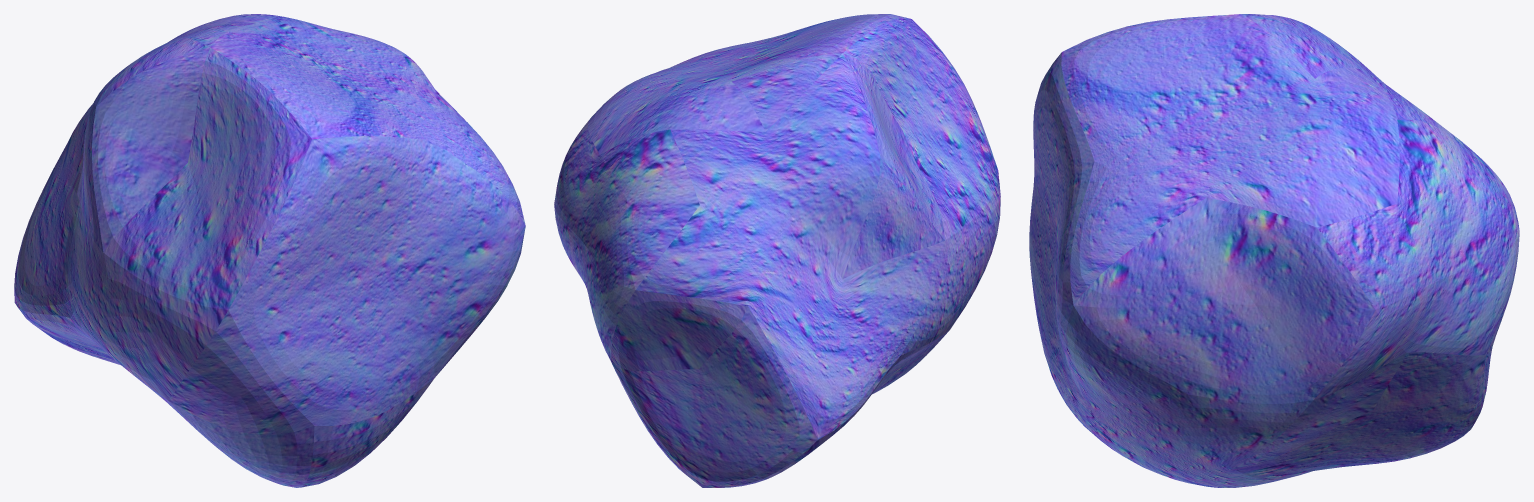
The model's file is smallasteroid5_LOD1.fbx.
The picture shows the model from 3 angles, left to right: view 1: azimuth 30°, elevation 25°; view 2: azimuth 150°, elevation 25°; view 3: azimuth 270°, elevation 25°; orthographic projection. The views are drawn at different scales.
Visible parts, largest first — view 1: Icosphere; view 2: Icosphere; view 3: Icosphere.
Part boxes in pixels (bbox=[...]): Icosphere: bbox=[14, 14, 525, 487]; Icosphere: bbox=[554, 14, 1000, 487]; Icosphere: bbox=[1029, 14, 1519, 487].
Size of the model in its own units: 248 by 282 by 290.
